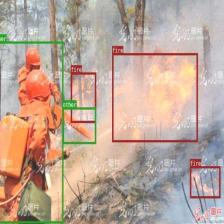fire: (112, 53, 198, 142), (70, 72, 96, 123), (190, 166, 220, 198)
